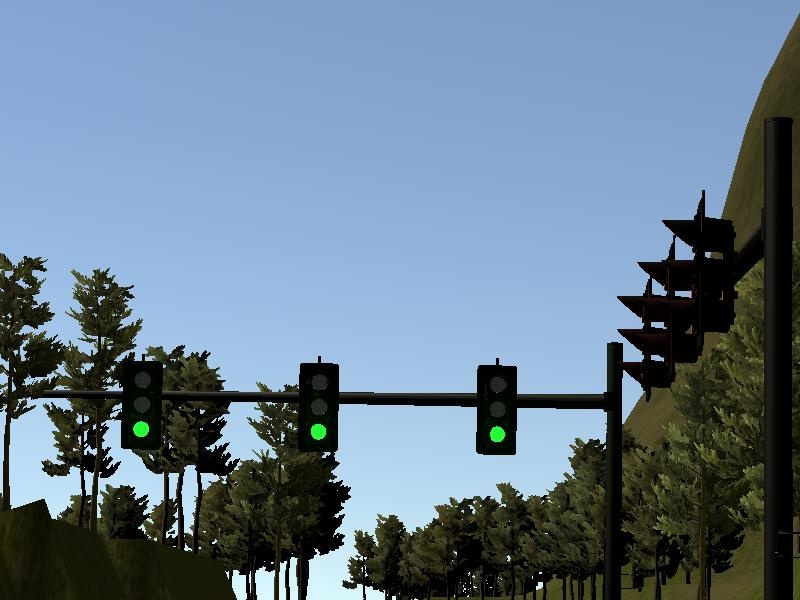green: (476, 365, 518, 456), (123, 361, 164, 452), (299, 363, 340, 453)
